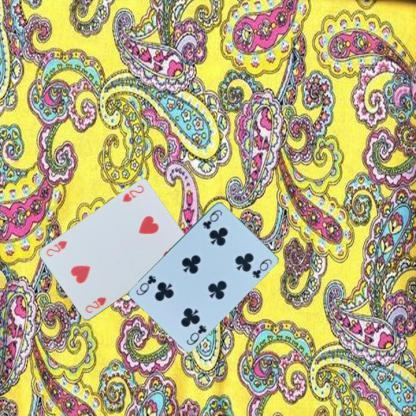2h: (120, 182, 145, 204), (82, 295, 107, 315)
6c: (184, 322, 208, 346), (200, 207, 223, 230)
